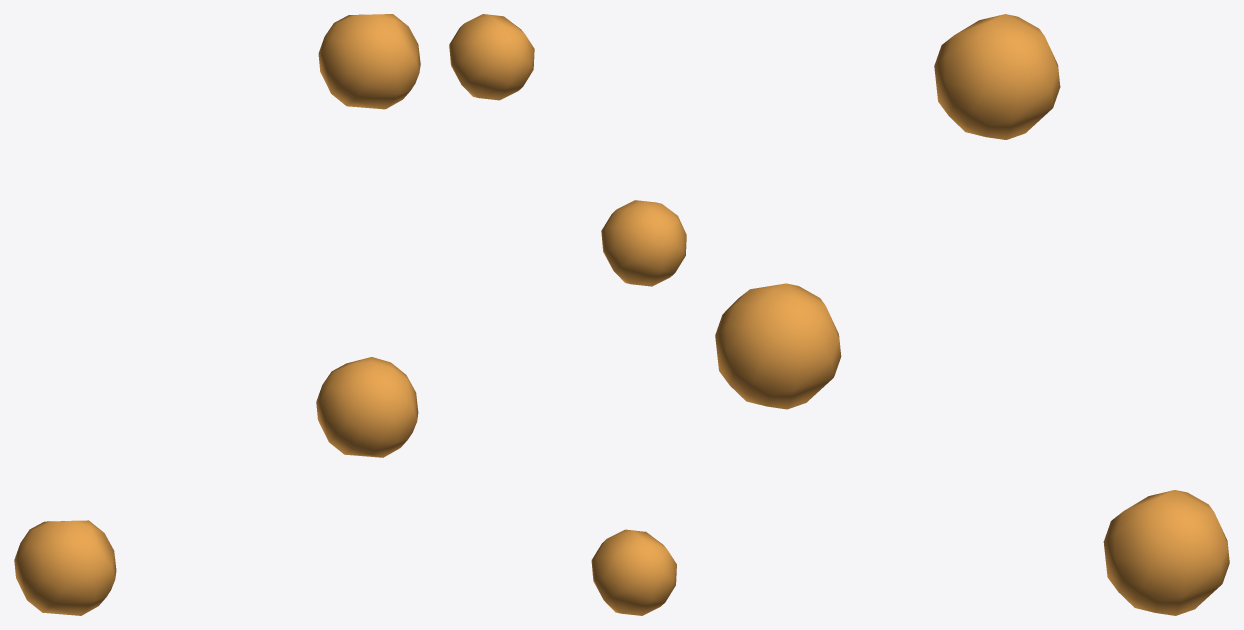
Rendered from linfatico-intraglandular-parotid-nodes-l.glb.
3 views of the same model, side by side, from view 1: azimuth 30°, elevation 25°; view 2: azimuth 150°, elevation 25°; view 3: azimuth 270°, elevation 25° (orthographic). The views are drawn at different scales.
Visible parts, largest first — view 1: Intraglandular parotid nodes.l; view 2: Intraglandular parotid nodes.l; view 3: Intraglandular parotid nodes.l.
Boxes of the visible parts, bbox=[...] form: Intraglandular parotid nodes.l: bbox=[14, 14, 420, 615]; Intraglandular parotid nodes.l: bbox=[449, 14, 686, 615]; Intraglandular parotid nodes.l: bbox=[715, 14, 1229, 615].
Size of the model in its own units: 0.00937 by 0.0164 by 0.0104.
